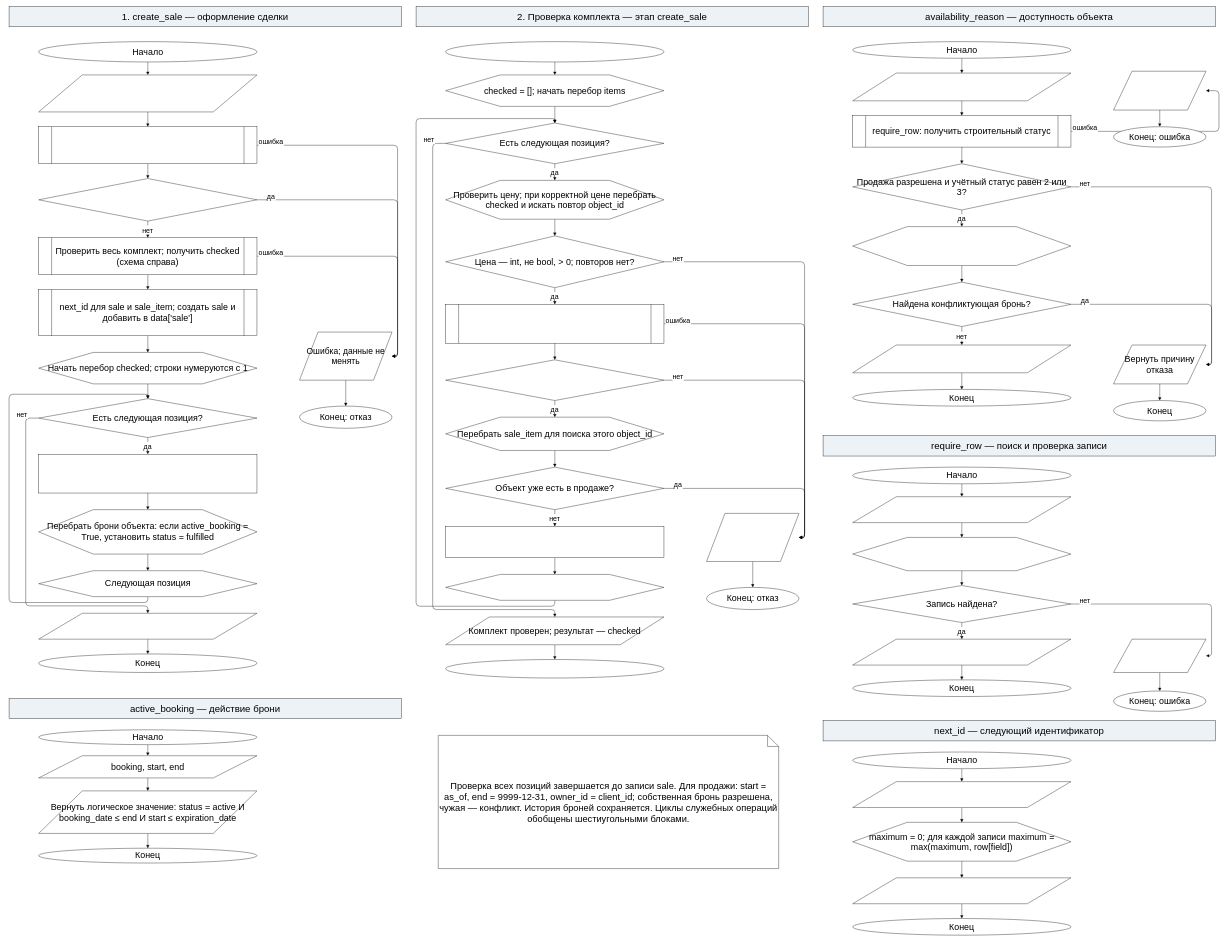
This 1228x942 diagram has some shape labels left out. The centre of each missing label's shape, as x and y in pixels:
"data, obj, start, end, owner_id" belongs at (961,87).
"data, участники, тип договора, items, as_of, notes" belongs at (147,93).
"require_row: найти объект; availability_reason: проверить доступность" belongs at (554,323).
"rows, row_id, title" belongs at (961,509).
"rows; field = 'id'" belongs at (961,794).
"ValueError: запись не найдена" belongs at (1159,655).
"ValueError: статус не найден" belongs at (1159,90).
"ValueError; данные не менять" belongs at (752,537).
"Вернуть maximum + 1" belongs at (961,890).
"Вернуть None: объект доступен" belongs at (961,359).
"Вернуть копию sale" belongs at (147,626).
"Вернуть найденную запись" belongs at (961,652).
"Добавить (obj, price) в checked" belongs at (554,542).
"Добавить sale_item; увеличить item_id; установить статус объекта = 4" belongs at (147,473).
"Комплект items пуст?" belongs at (147,199).
"Конец проверки" belongs at (554,668).
"Начало проверки" belongs at (554,51).
"Объект доступен?" belongs at (554,380).
"Перебирать rows до первого совпадения id = row_id" belongs at (961,554).
"Перебрать брони: проверить объект, active_booking и принадлежность клиенту" belongs at (961,245).
"Проверить дату; require_row: клиент, сотрудник и тип договора" belongs at (147,145).
"Следующая входная позиция" belongs at (554,587).
